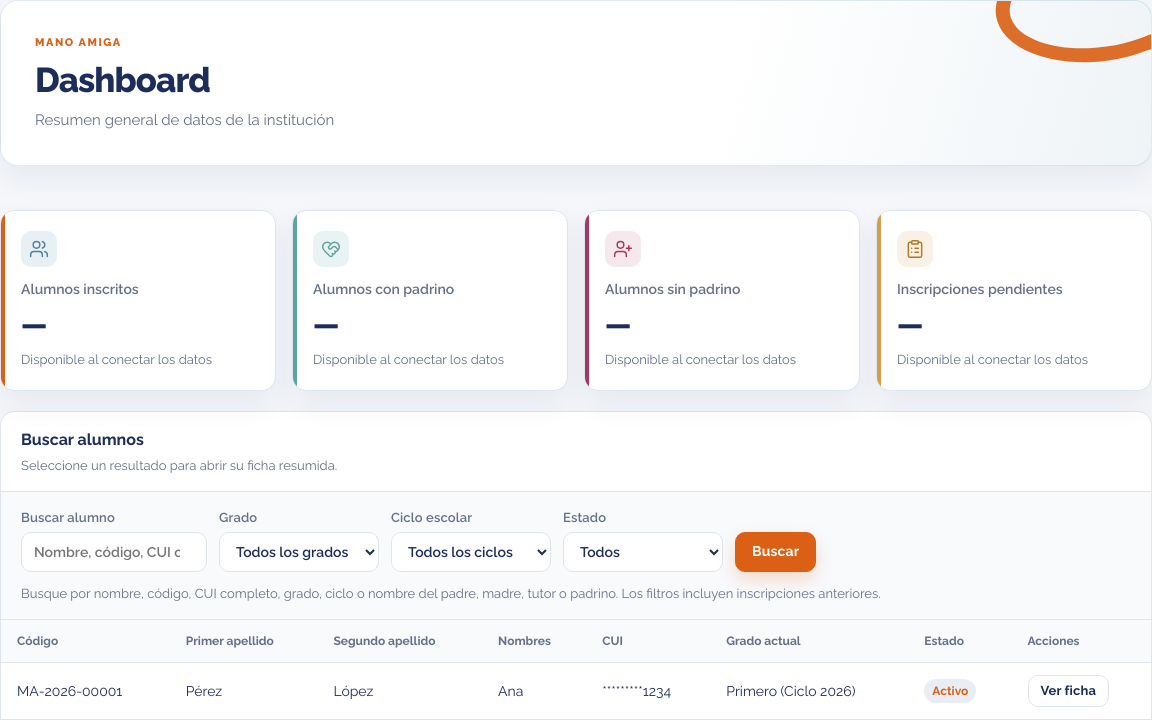
búsqueda y ficha del alumno desde el dashboard › muestra los siete elementos, autorizados e historial y restaura el foco al cerrar
Click the button with aria-label "Ver ficha de Ana Pérez López": (1068, 691) x1=1028 y1=675 x2=1109 y2=707
(page scrolled)
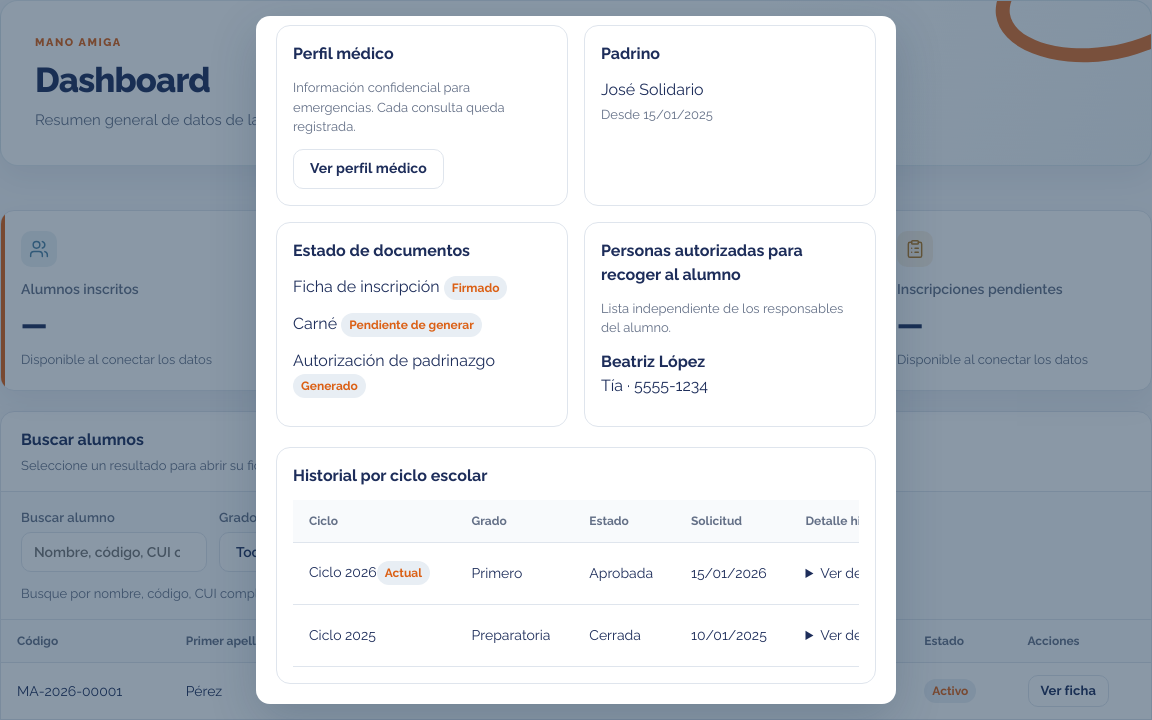
Expected: the list item "José Solidario" is shown, x1=601 y1=80 x2=704 y2=99
Expected: the text "Firmado" is shown, x1=444 y1=276 x2=508 y2=300
Expected: the text "Pendiente de generar" is shown, x1=341 y1=312 x2=482 y2=336
Press Escape
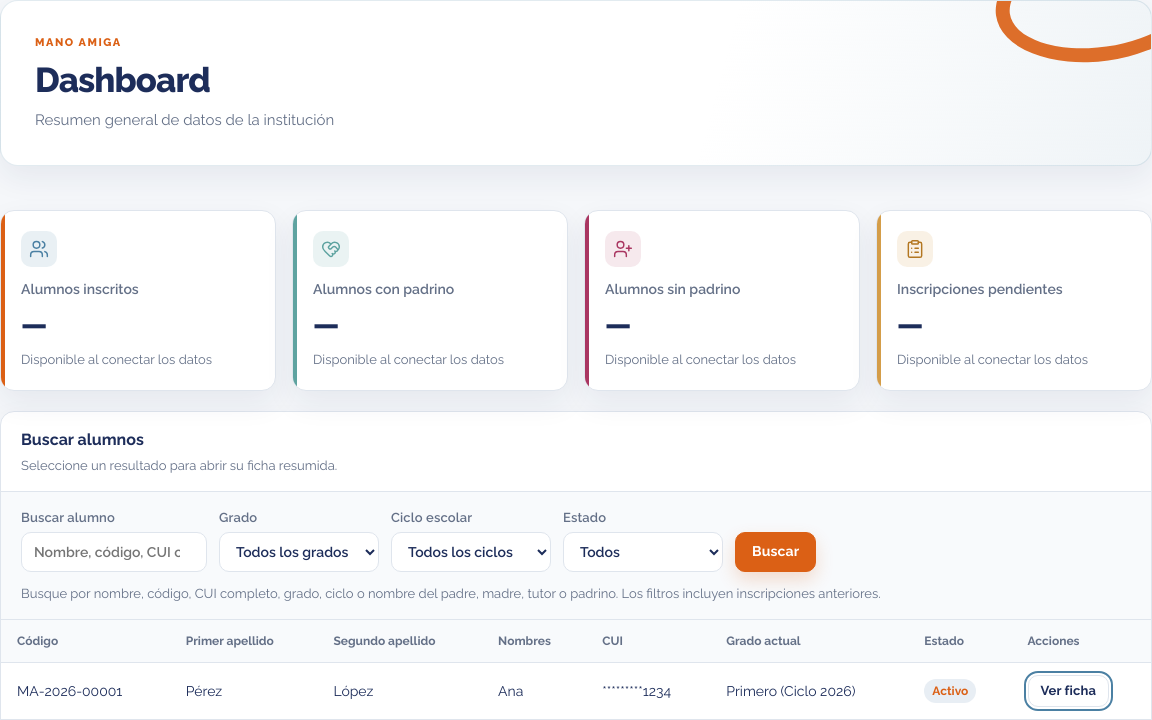
Expected: the dialog is gone
